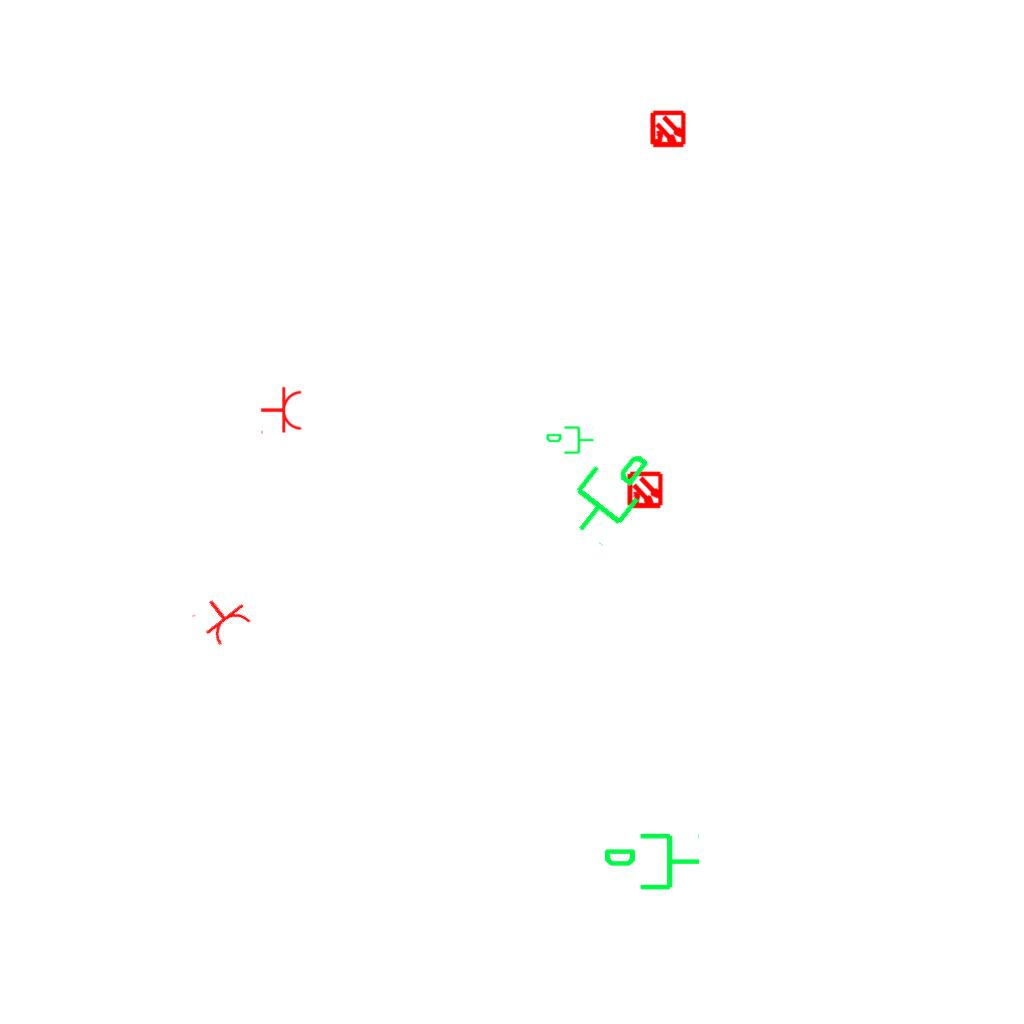Datenanschluss_einfach: (550, 430, 667, 552), (602, 829, 702, 898), (545, 424, 595, 458)
OT_Multisensormelder_(Kombination_RMO_WMD): (640, 102, 696, 158), (617, 463, 673, 519)
Schukosteckdose_einfach: (189, 585, 256, 651), (260, 386, 303, 436)
